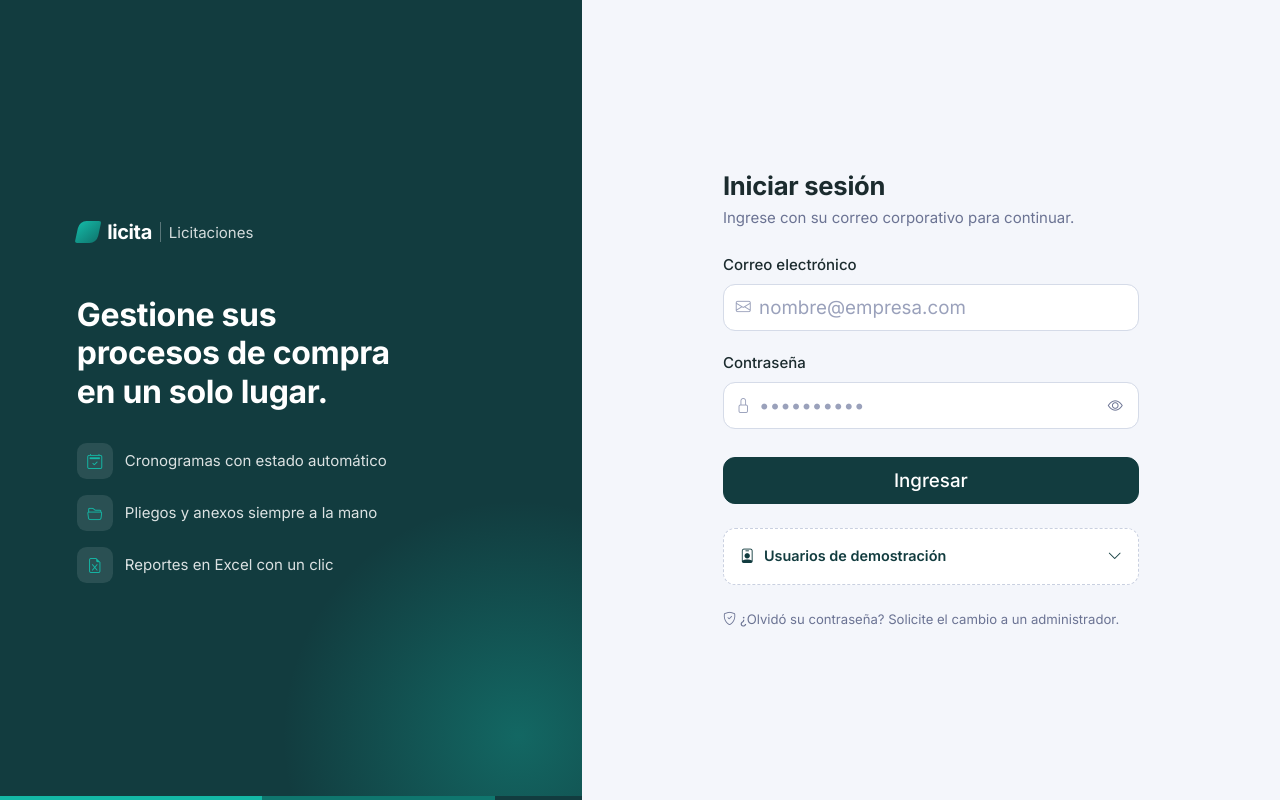
Test: LoginView › shows the lockout message when there are too many attempts
Type "admin@licita.test" into the field with id "login-email" at (931, 308), box [723,284,1139,331]
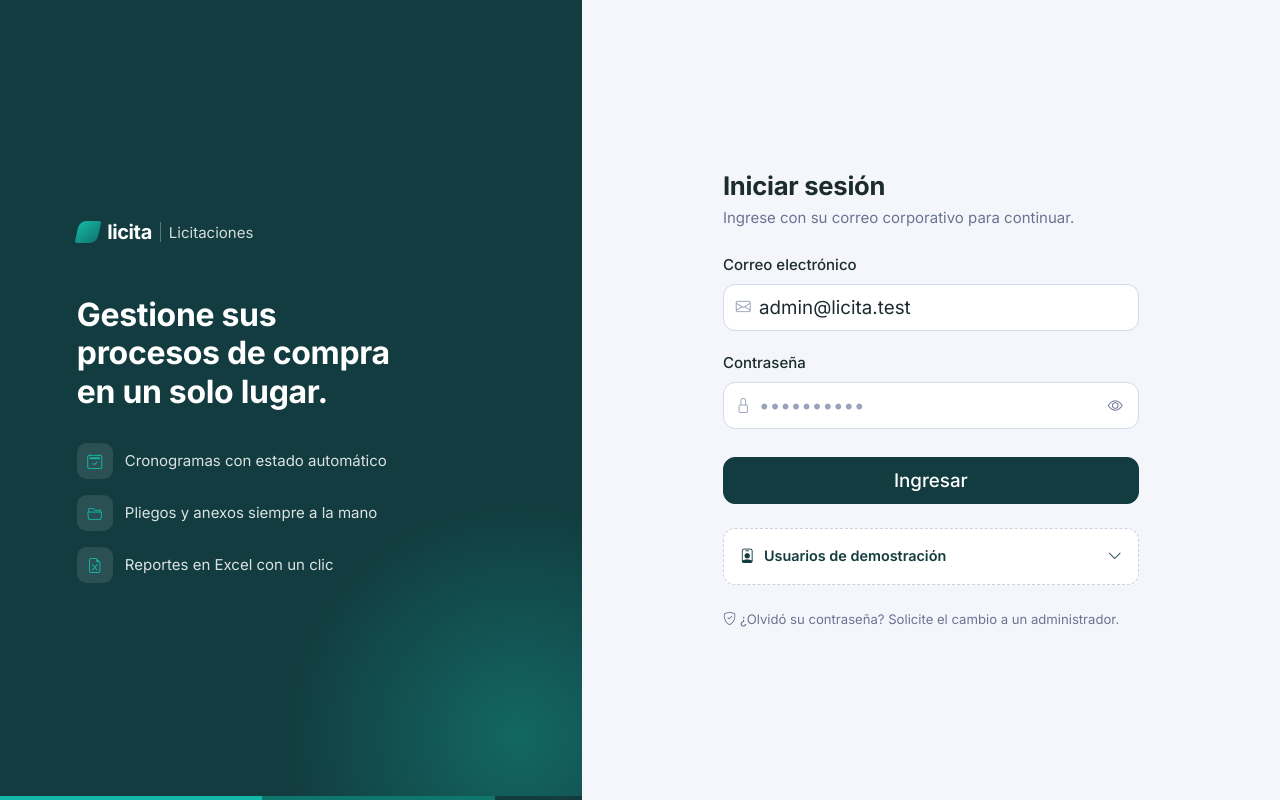
Type "otra-clave" into the password field with id "login-password" at (931, 406), box [723,382,1139,430]
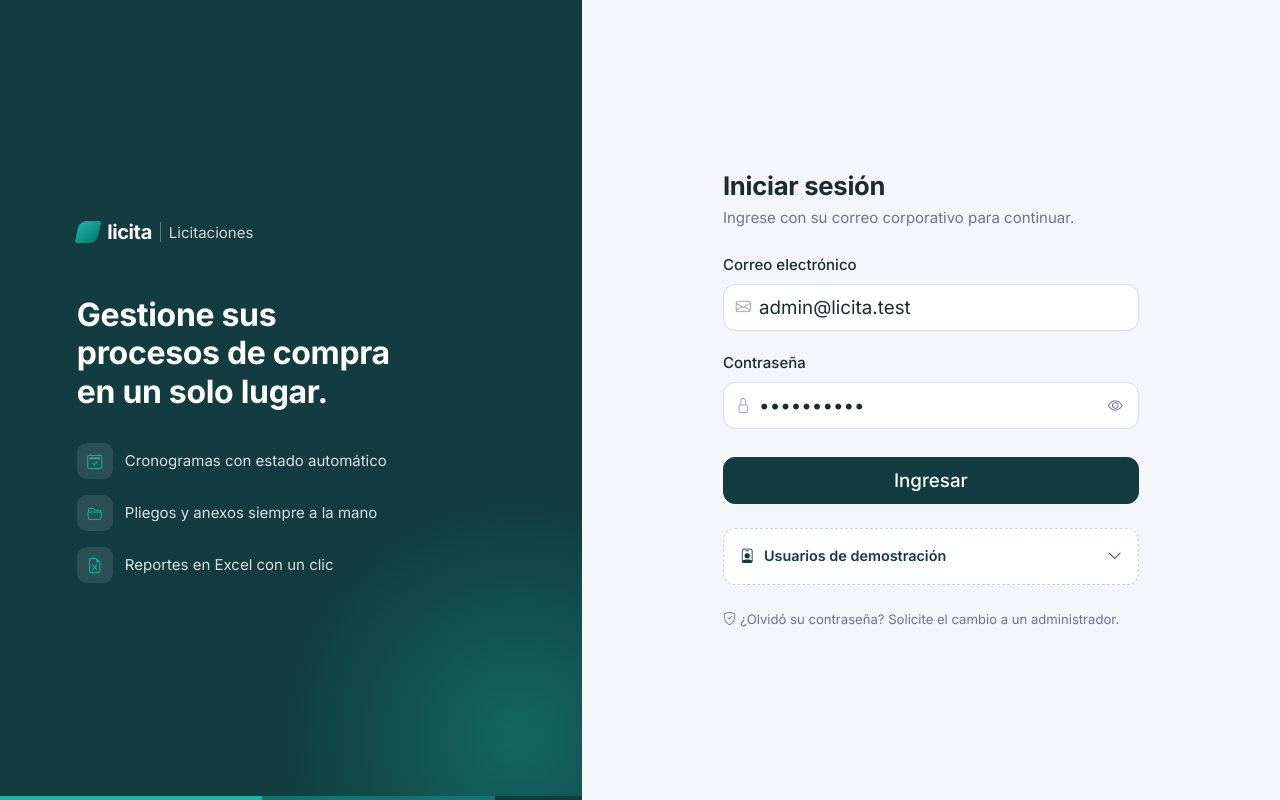
Submit the form, box [723,253,1139,504]
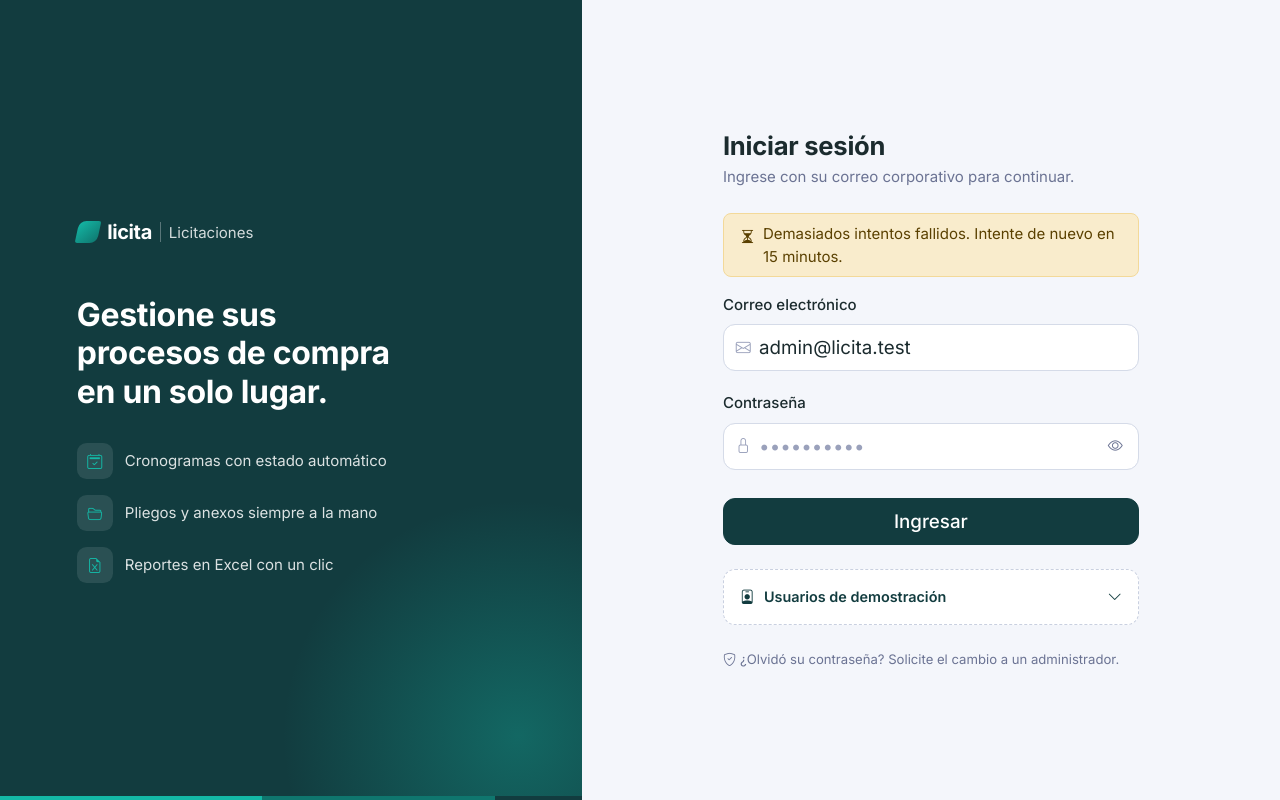
Expected: the message with test id "login-alert" shows "Demasiados intentos fallidos", [763,224,1115,266]
